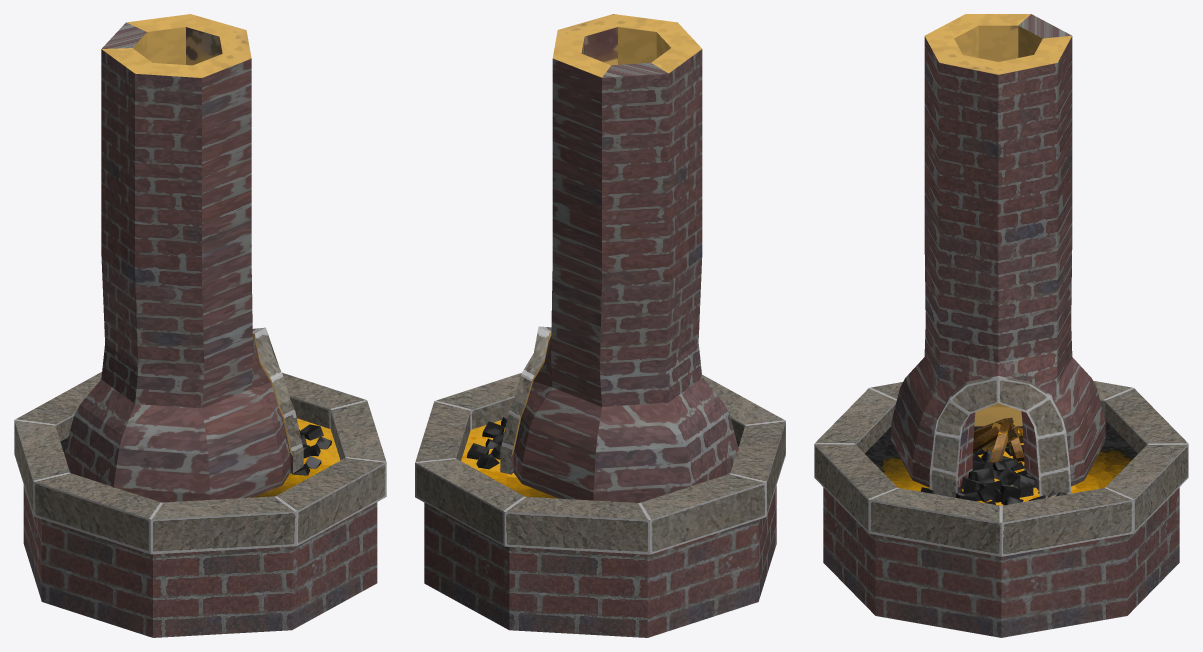
Rendered from forge.fbx.
3 views of the same model, side by side, from view 1: azimuth 30°, elevation 25°; view 2: azimuth 150°, elevation 25°; view 3: azimuth 270°, elevation 25° (orthographic). The views are drawn at different scales.
Parts seen in each view (by area): view 1: cheminee, base, coal; view 2: cheminee, base, coal; view 3: cheminee, base, coal, FIRE.
Part boxes in pixels (x1,y1,x2,y2): cheminee: [64, 14, 303, 502]; base: [14, 372, 386, 637]; coal: [289, 424, 331, 475]; cheminee: [500, 14, 738, 502]; base: [415, 373, 785, 637]; coal: [466, 417, 507, 469]; cheminee: [891, 14, 1105, 497]; base: [814, 381, 1188, 637]; coal: [920, 441, 1067, 505]; FIRE: [973, 417, 1024, 463].
Bounding box in the file's own units: 1209 × 1812 × 1209.
Materials: 1 (1 with a texture image).
